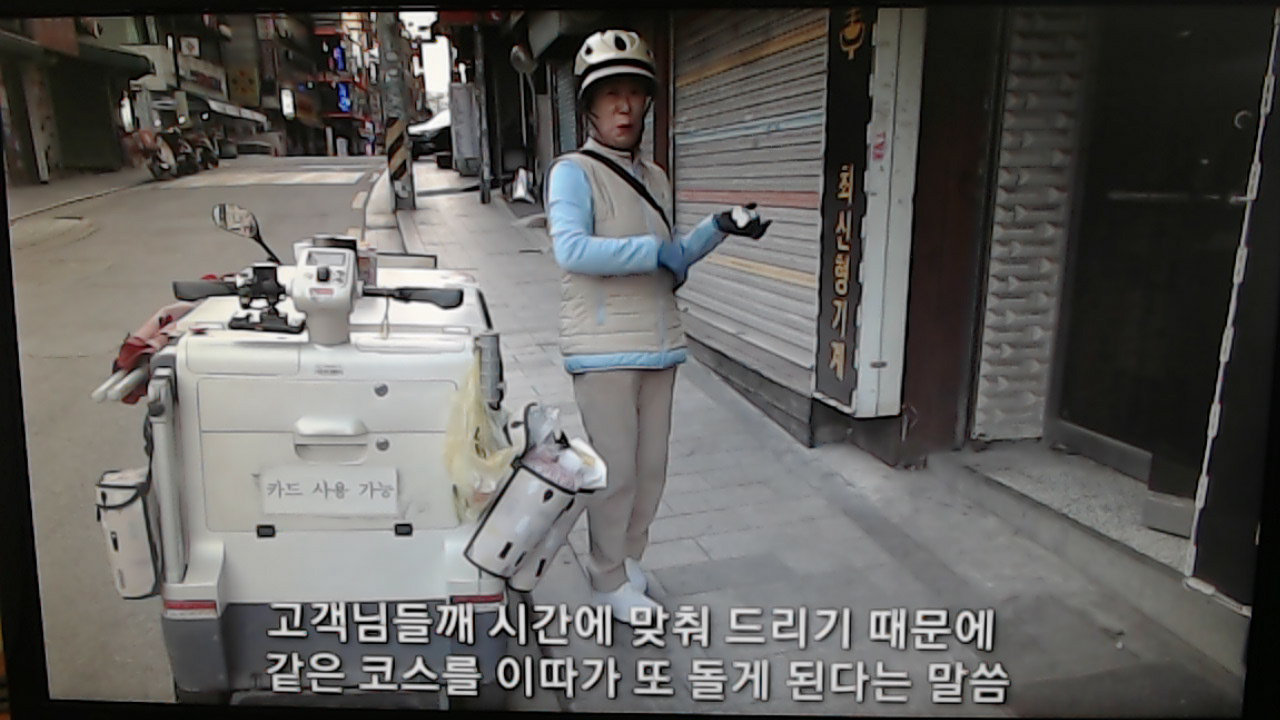Yakurut: (471, 32, 804, 650)
